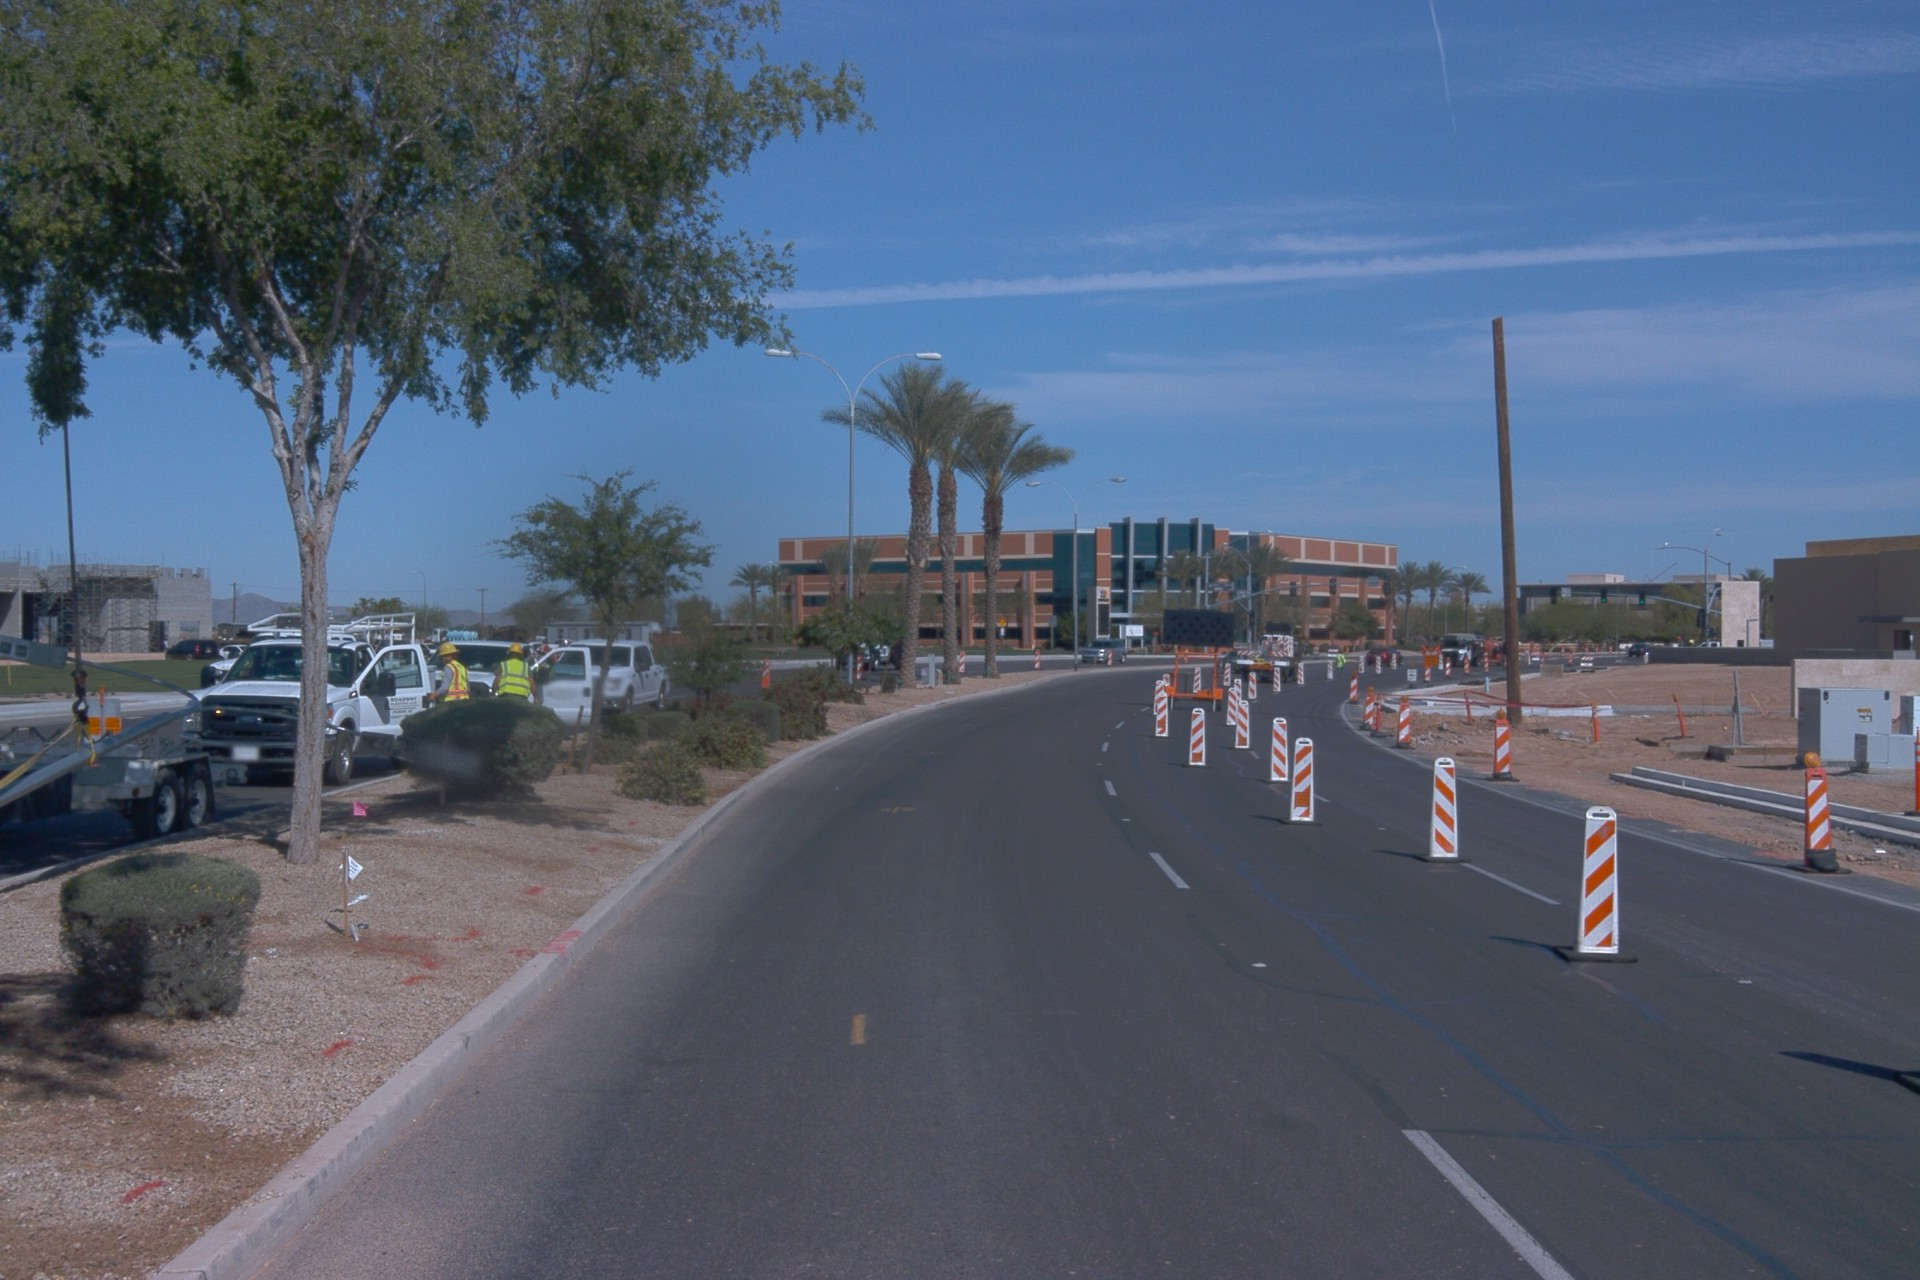TYPE_PEDESTRIAN: (489, 642, 539, 705), (425, 640, 471, 704), (1333, 649, 1347, 682)
TYPE_VEHICLE: (0, 388, 497, 851), (186, 635, 393, 791), (193, 606, 418, 697), (539, 634, 673, 726), (1151, 600, 1247, 724), (426, 634, 549, 712), (1223, 619, 1305, 686), (830, 621, 905, 673), (1433, 632, 1509, 670), (1081, 638, 1127, 666), (166, 636, 218, 660), (1363, 642, 1404, 669), (1258, 628, 1299, 652), (1221, 648, 1249, 675), (214, 643, 249, 662), (415, 636, 441, 657), (1692, 635, 1720, 649)
